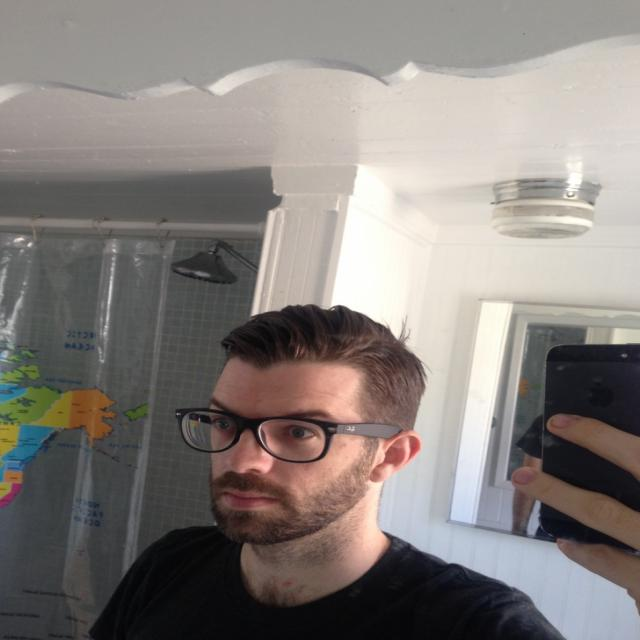Glasses: (172, 405, 403, 465)
